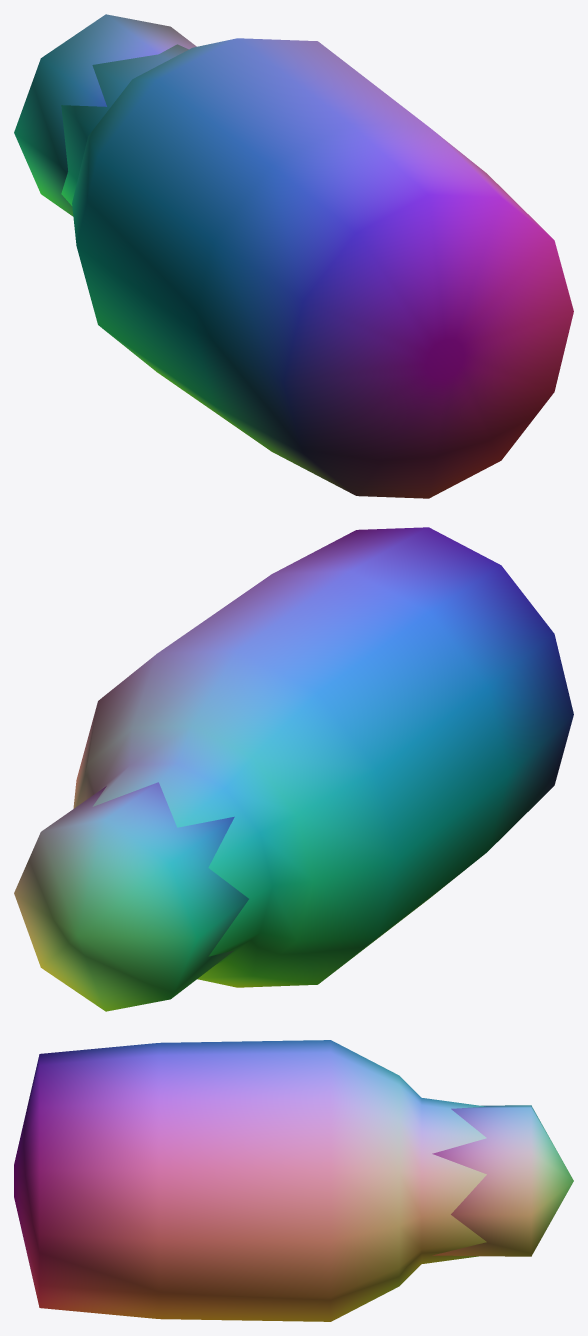
File: SM_NPCKit_Prop_Vial.fbx
The picture shows the model from 3 angles, top to bottom: view 1: azimuth 30°, elevation 25°; view 2: azimuth 150°, elevation 25°; view 3: azimuth 270°, elevation 25°; orthographic projection. The views are drawn at different scales.
Parts seen in each view (by area): view 1: SM_NPCKit_Prop_Vial; view 2: SM_NPCKit_Prop_Vial; view 3: SM_NPCKit_Prop_Vial.
Boxes of the visible parts, box(x1,y1,x2,y2) form: SM_NPCKit_Prop_Vial: box(14, 14, 573, 498); SM_NPCKit_Prop_Vial: box(14, 527, 573, 1011); SM_NPCKit_Prop_Vial: box(14, 1040, 573, 1321).
Size of the model in its own units: 0.0809 by 0.0809 by 0.16.
